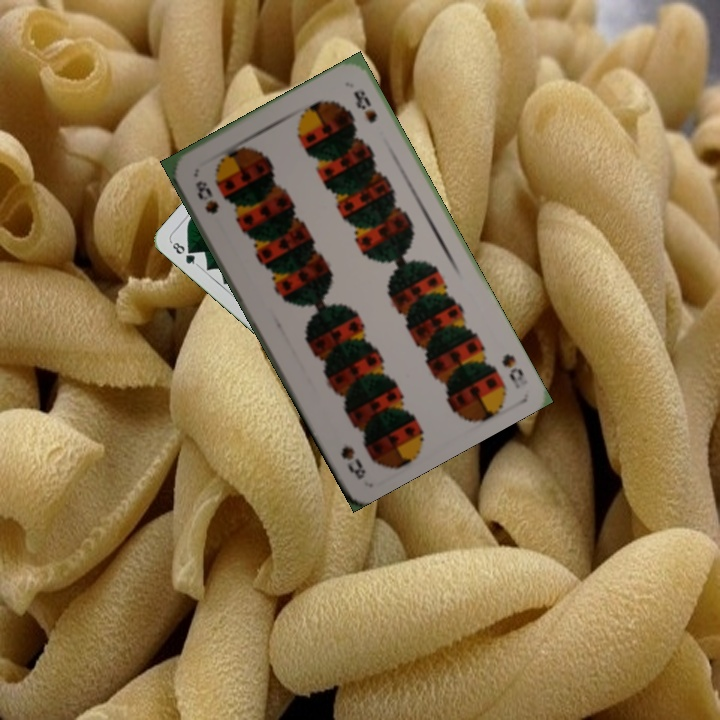G8: (167, 238, 201, 268)
S8: (497, 349, 531, 392), (191, 176, 221, 217)
